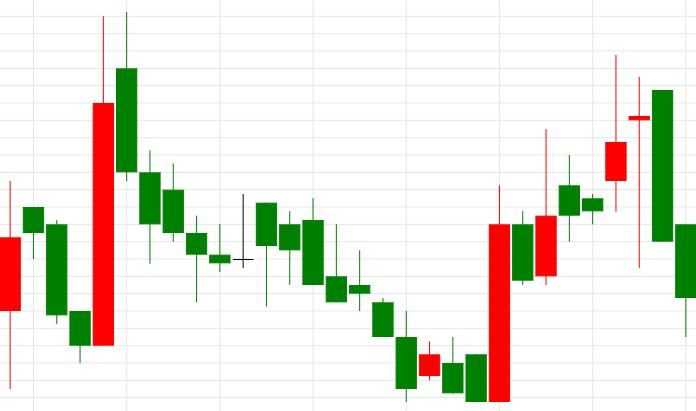bullish_engulfing_rise: (256, 183, 509, 403)
shooting_star_fall: (488, 54, 626, 402)
